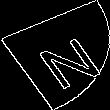N_NW: (15, 23, 95, 87)
